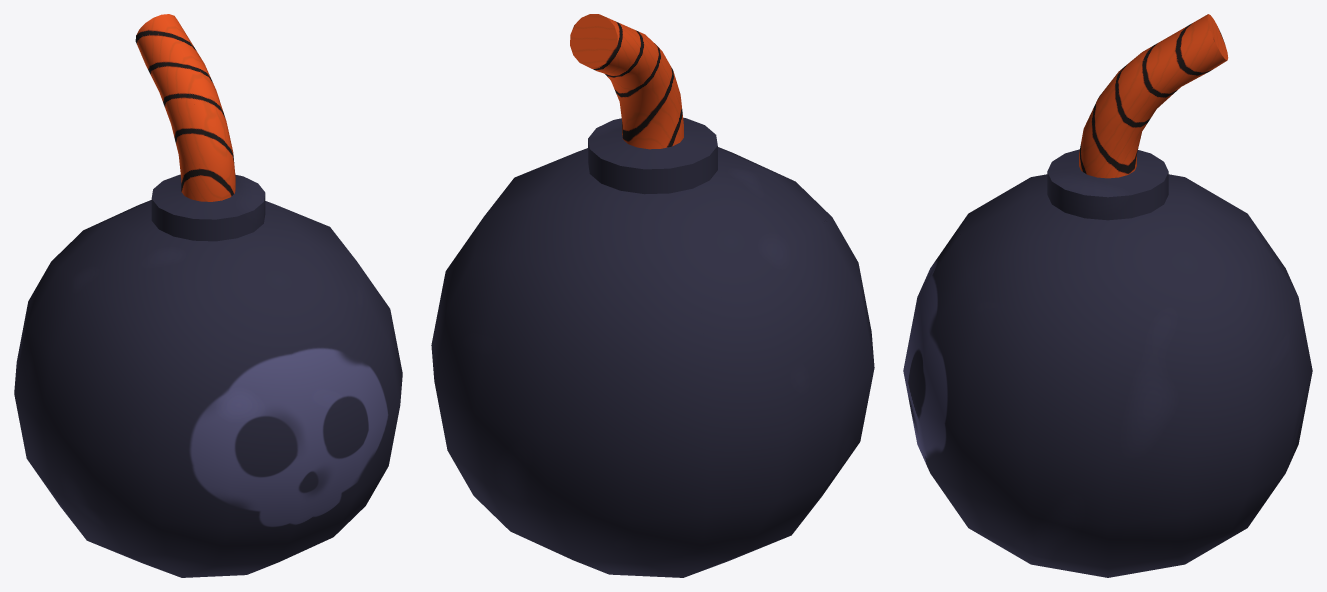
The model's file is bomb.fbx.
3 views of the same model, side by side, from view 1: azimuth 30°, elevation 25°; view 2: azimuth 150°, elevation 25°; view 3: azimuth 270°, elevation 25° (orthographic). The views are drawn at different scales.
Visible parts, largest first — view 1: Circle.002_Circle.005; view 2: Circle.002_Circle.005; view 3: Circle.002_Circle.005.
Part boxes in pixels (box(x1,y1,x2,y2)): Circle.002_Circle.005: box(14, 14, 402, 577); Circle.002_Circle.005: box(431, 14, 874, 577); Circle.002_Circle.005: box(903, 14, 1312, 577).
Bounding box in the file's own units: 168 × 244 × 168.
Materials: 1 (1 with a texture image).
